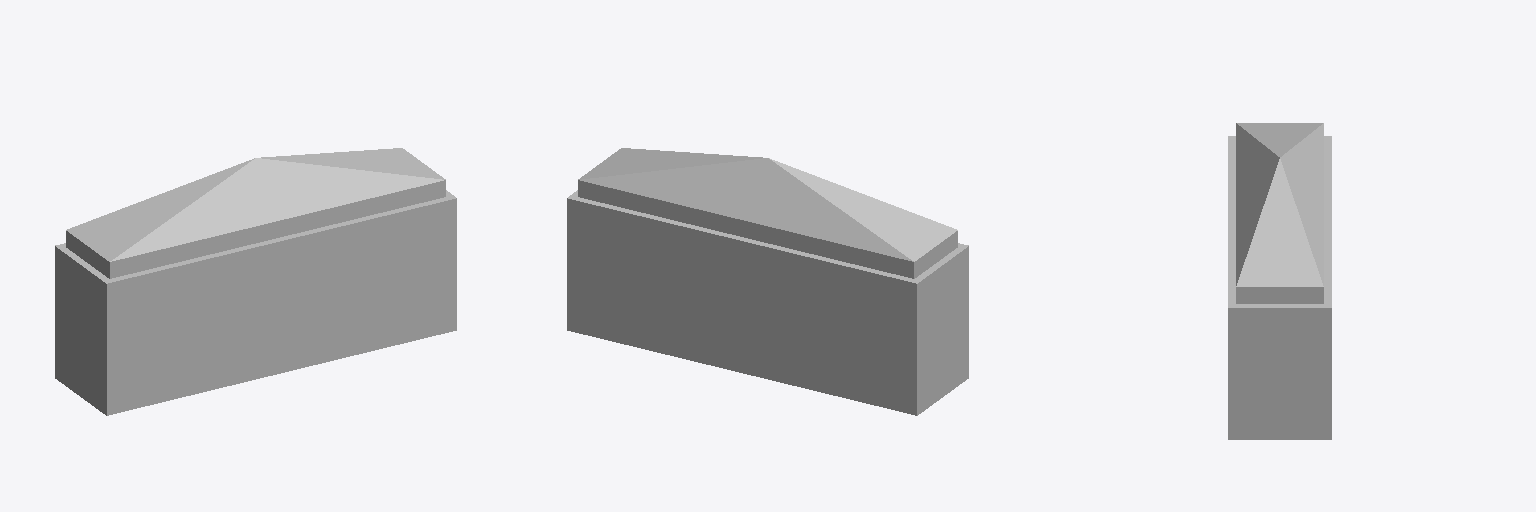
Rendered from LargeRectangle.obj.
3 renders of one model, left to right at view 1: azimuth 30°, elevation 25°; view 2: azimuth 150°, elevation 25°; view 3: azimuth 270°, elevation 25°, orthographic.
Parts seen in each view (by area): view 1: Cube; view 2: Cube; view 3: Cube.
Boxes of the visible parts, <box> form: Cube: <box>55,148,456,415</box>; Cube: <box>567,148,968,415</box>; Cube: <box>1228,123,1331,439</box>.
Size of the model in its own units: 7.79 by 4.16 by 2.